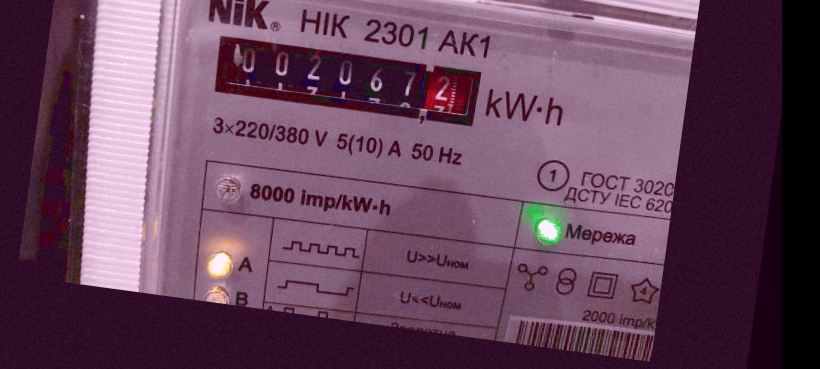0: (333, 55, 355, 85), (237, 44, 258, 75), (271, 46, 291, 78)
2: (431, 71, 453, 102), (303, 51, 324, 82)
6: (365, 62, 387, 94)
7: (398, 67, 418, 99)
screen: (197, 20, 497, 141)
